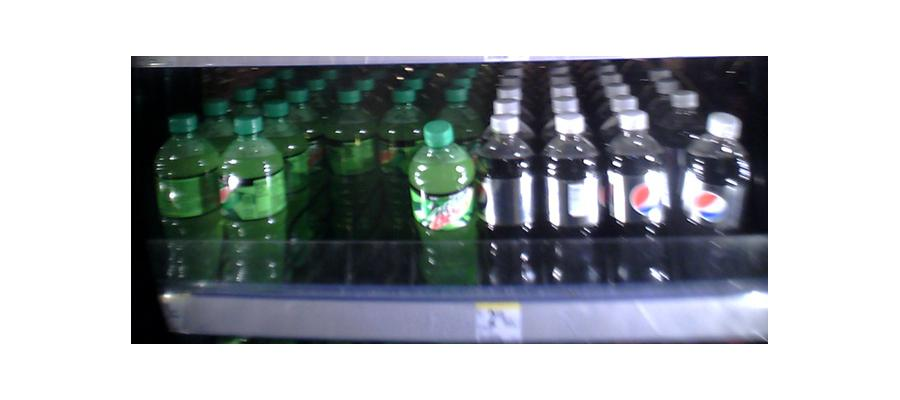bottle: (155, 115, 222, 297), (603, 109, 673, 283), (541, 95, 605, 281), (412, 120, 481, 292), (676, 115, 754, 260), (324, 92, 382, 277), (480, 104, 537, 290), (220, 115, 283, 281)
